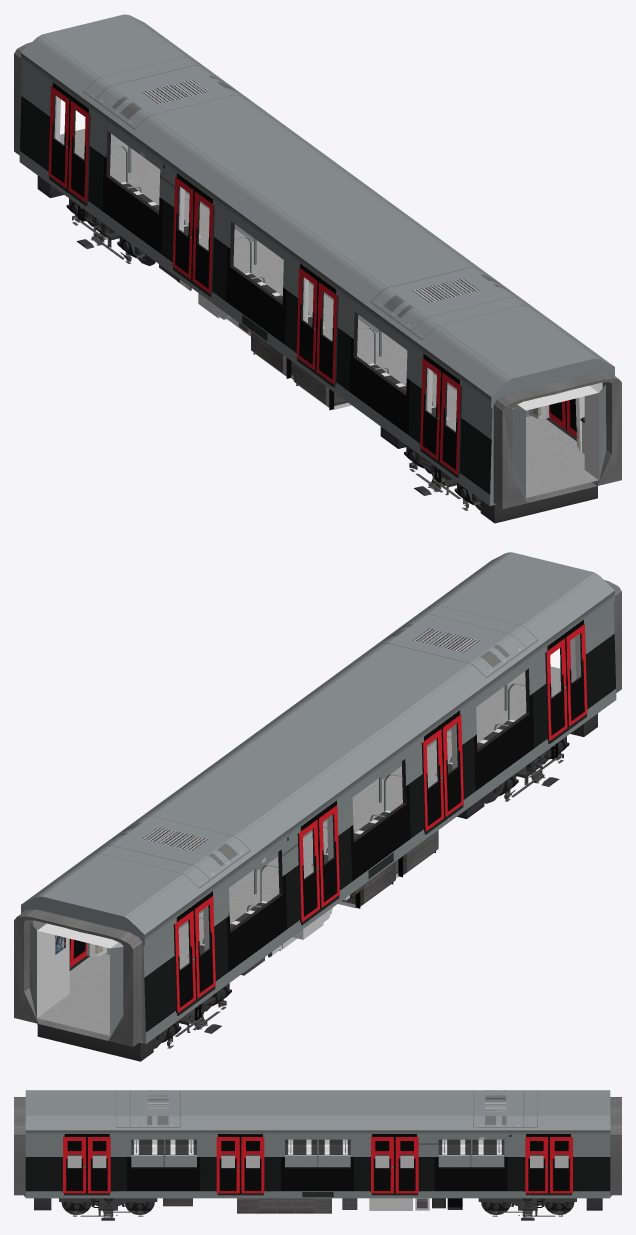
File: amsterdam_m7_m.obj
3 views of the same model, one above another, from view 1: azimuth 30°, elevation 25°; view 2: azimuth 150°, elevation 25°; view 3: azimuth 270°, elevation 25° (orthographic). The views are drawn at different scales.
Visible parts, largest first — view 1: m_jibung, m_side, m_badak, m_mak, m_door_RF, m_door_RB, m_habu, m_back, m_back_in, m_bogie, m_doorside, m_seat; view 2: m_jibung, m_side, m_badak, m_mak, m_door_RB, m_door_RF, m_habu, m_back, m_bogie, m_back_in, m_insidebong, m_seat (+1 smaller); view 3: m_side, m_jibung, m_door_LB, m_door_LF, m_habu, m_badak, m_seat, m_bogie, m_mak, m_door_RF_in, m_door_RB_in, m_sidebupums (+2 smaller).
Boxes of the visible parts, <box> form: m_jibung: <box>21,14,613,396</box>; m_side: <box>19,53,614,505</box>; m_badak: <box>62,133,589,488</box>; m_mak: <box>14,42,621,508</box>; m_door_RF: <box>67,100,462,475</box>; m_door_RB: <box>48,86,441,460</box>; m_habu: <box>37,175,597,523</box>; m_back: <box>492,358,614,504</box>; m_back_in: <box>60,128,602,497</box>; m_bogie: <box>66,198,480,510</box>; m_doorside: <box>54,96,584,452</box>; m_seat: <box>110,145,448,419</box>; m_jibung: <box>22,552,614,934</box>; m_side: <box>21,591,616,1043</box>; m_badak: <box>46,671,560,1026</box>; m_mak: <box>14,580,621,1046</box>; m_door_RB: <box>173,638,568,1013</box>; m_door_RF: <box>194,624,587,998</box>; m_habu: <box>37,713,597,1061</box>; m_back: <box>21,896,143,1042</box>; m_bogie: <box>153,736,569,1048</box>; m_back_in: <box>37,666,560,1035</box>; m_insidebong: <box>33,637,575,1006</box>; m_seat: <box>187,683,525,957</box>; m_side: <box>25,1130,610,1198</box>; m_jibung: <box>25,1090,610,1130</box>; m_door_LB: <box>87,1137,572,1193</box>; m_door_LF: <box>63,1137,548,1193</box>; m_habu: <box>34,1198,602,1214</box>; m_badak: <box>67,1156,568,1167</box>; m_seat: <box>131,1139,504,1155</box>; m_bogie: <box>59,1198,576,1220</box>; m_mak: <box>14,1097,621,1195</box>; m_door_RF_in: <box>67,1141,543,1154</box>; m_door_RB_in: <box>92,1141,568,1154</box>; m_sidebupums: <box>64,1193,571,1195</box>.
Size of the model in its own units: 3.24 by 3.78 by 20.27.
Materials: 22 (22 with a texture image).
